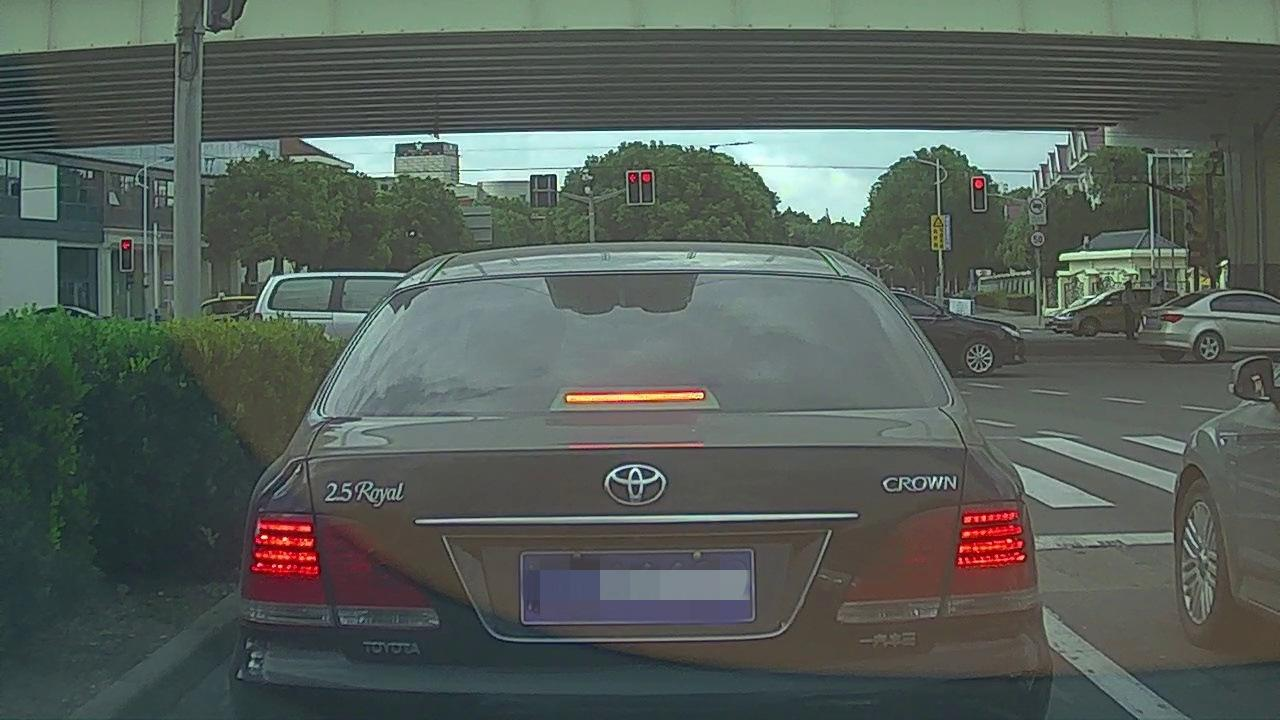traffic_light: (640, 170, 653, 204), (973, 177, 986, 211), (120, 239, 132, 270), (628, 171, 639, 204)
